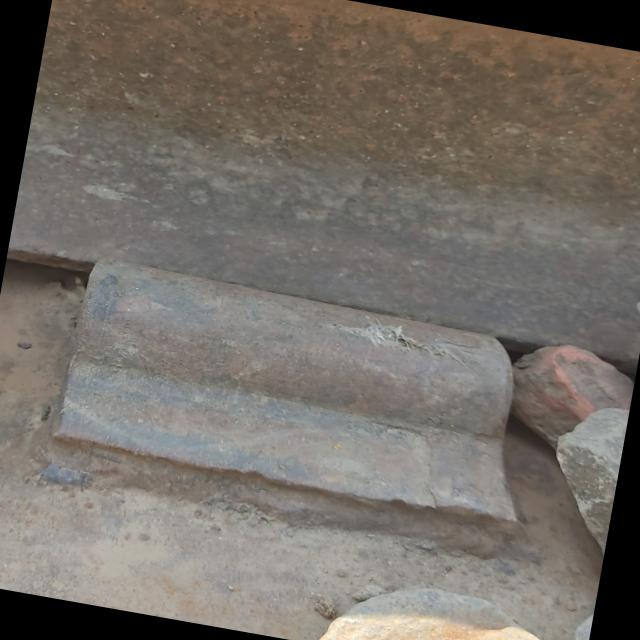track_bolt_missing: (55, 244, 532, 461)
